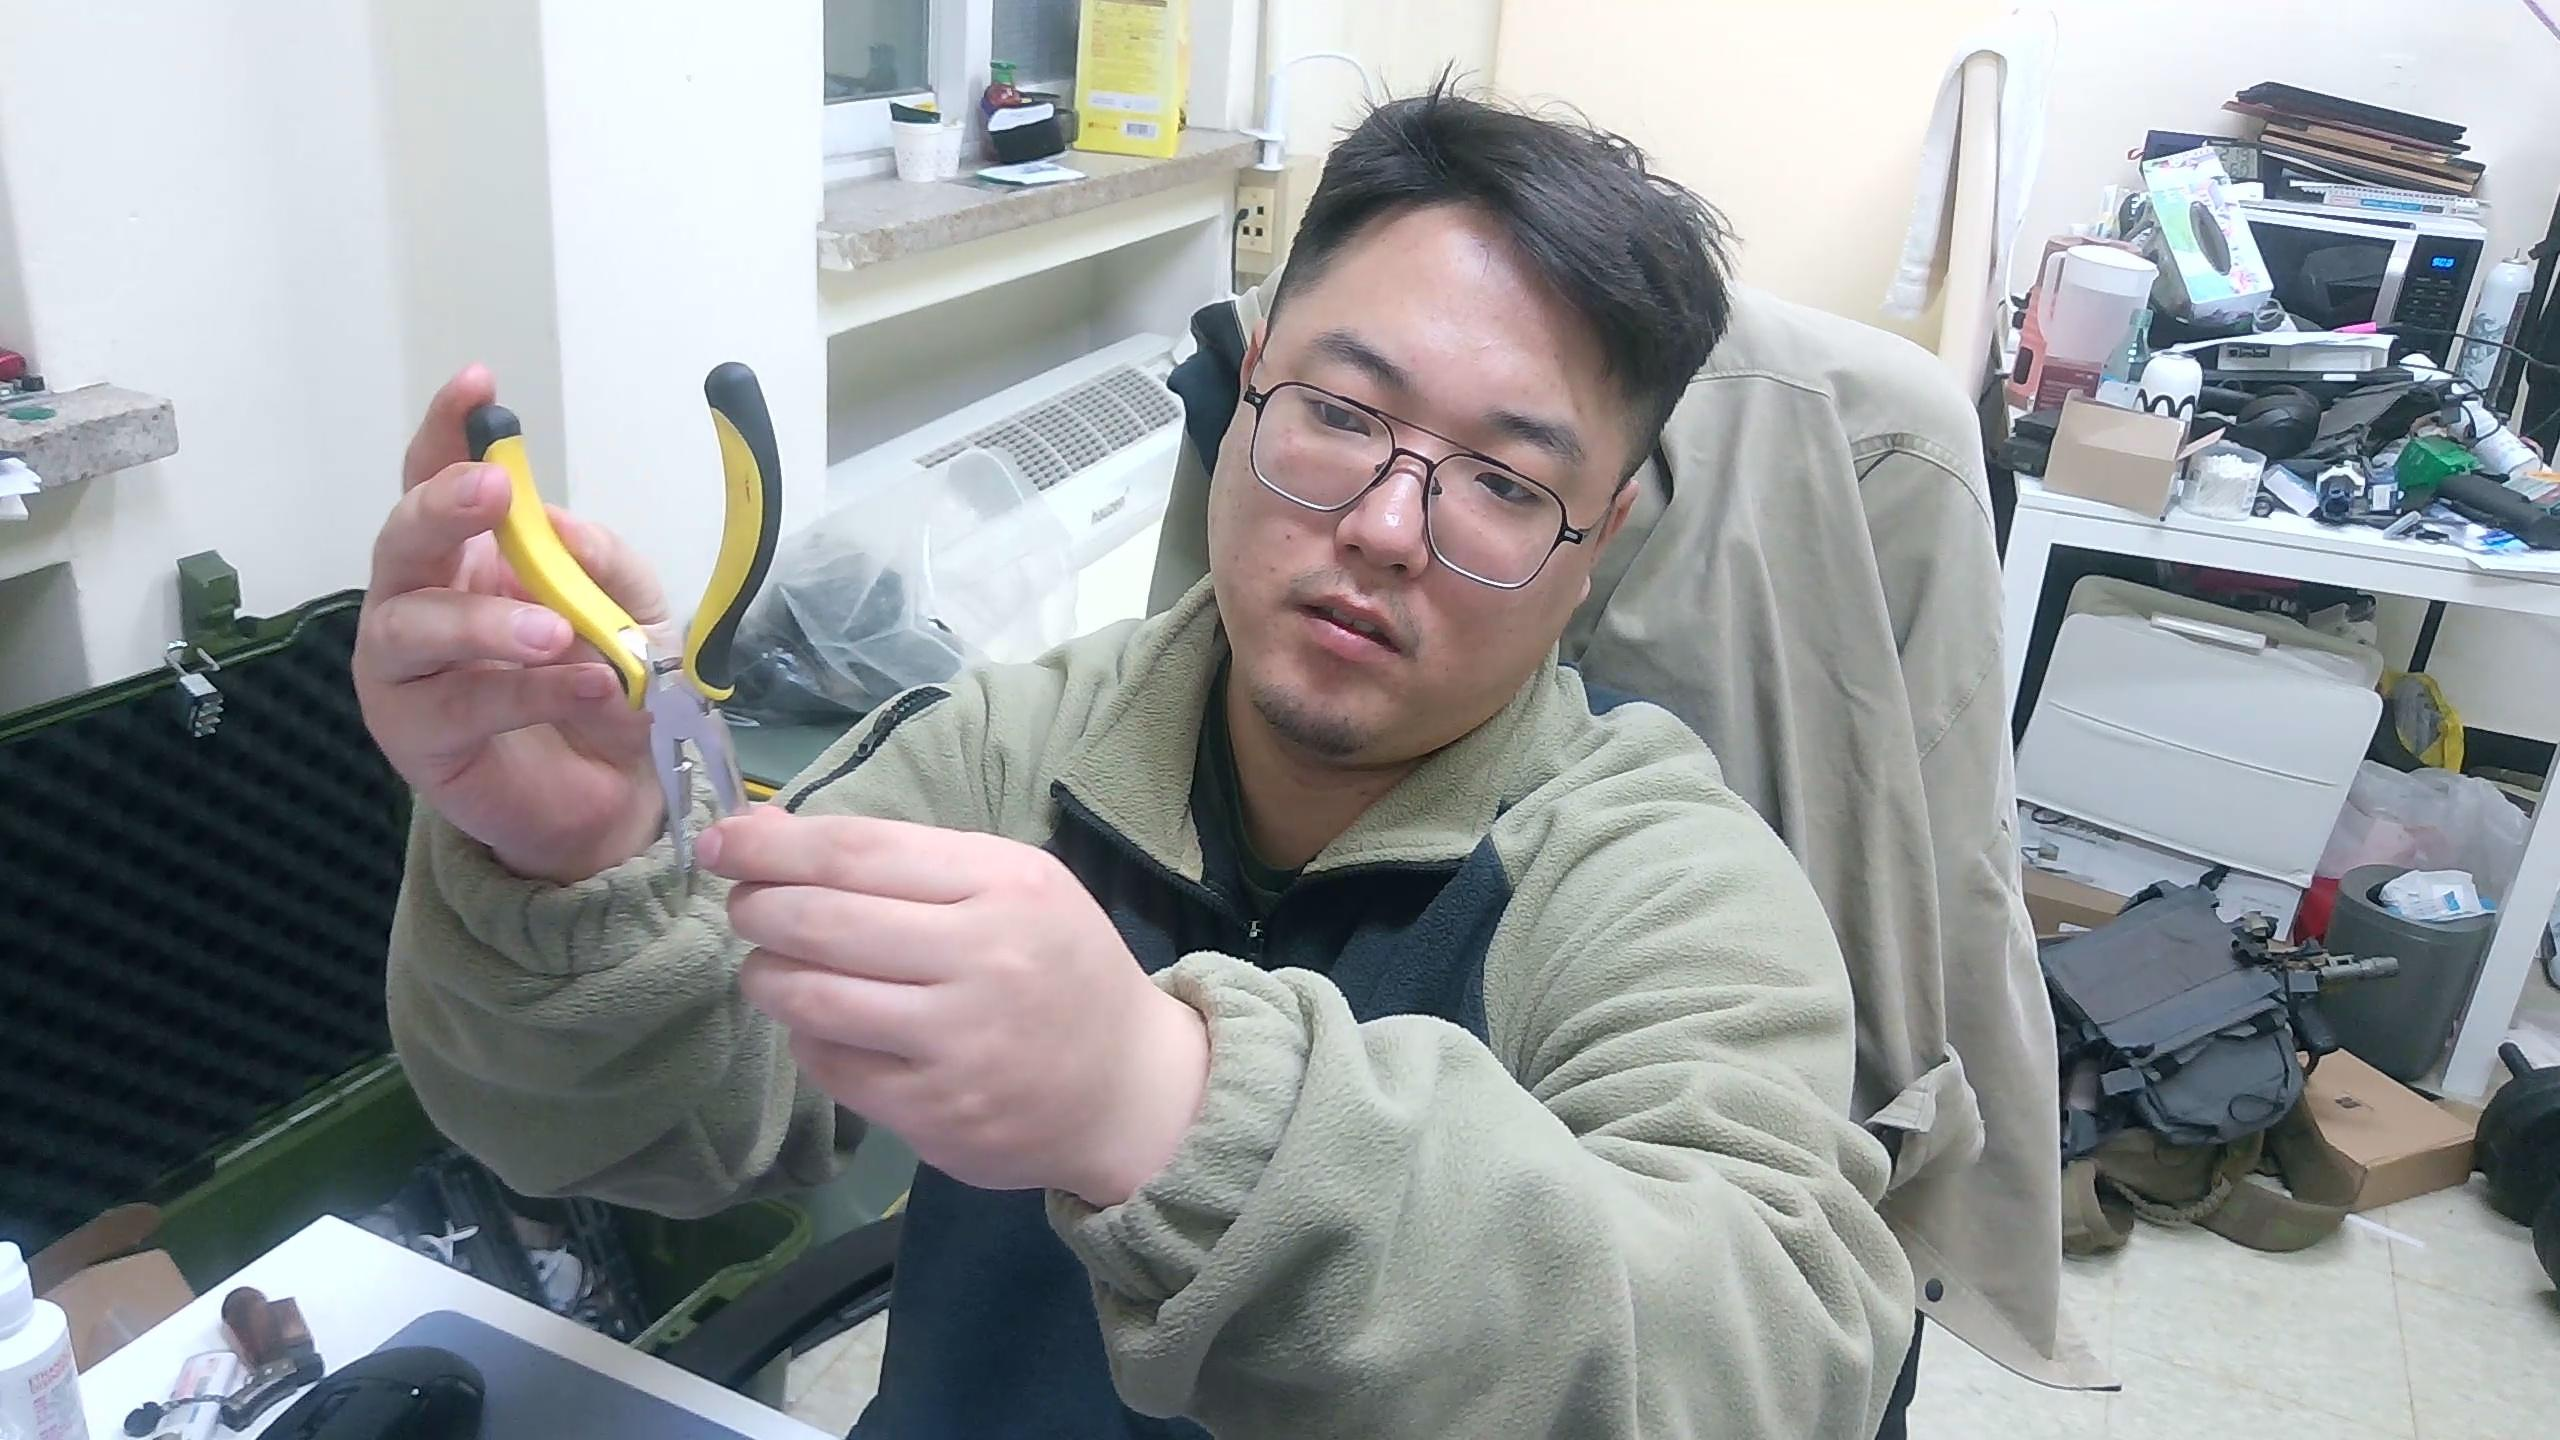earphone: (462, 357, 789, 842)
